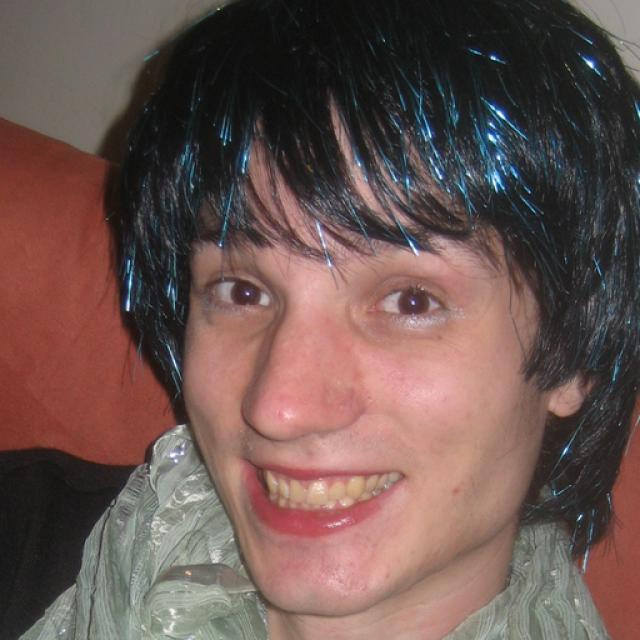happy: (178, 75, 548, 615)
